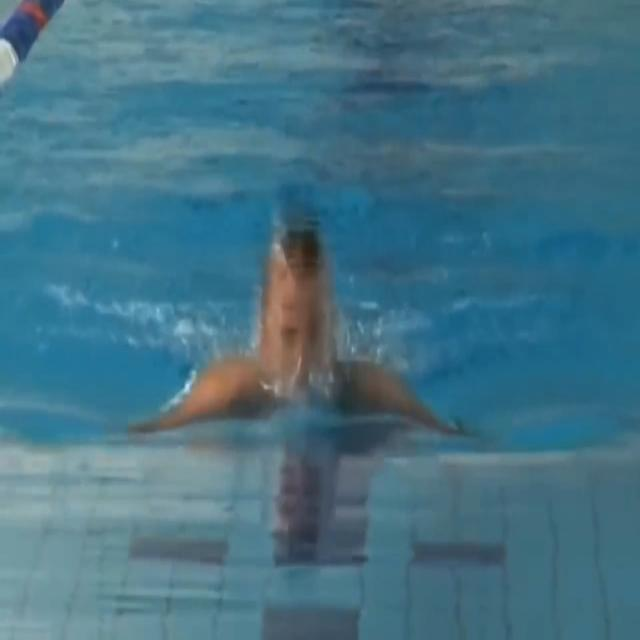Swimming: (128, 228, 474, 442)
